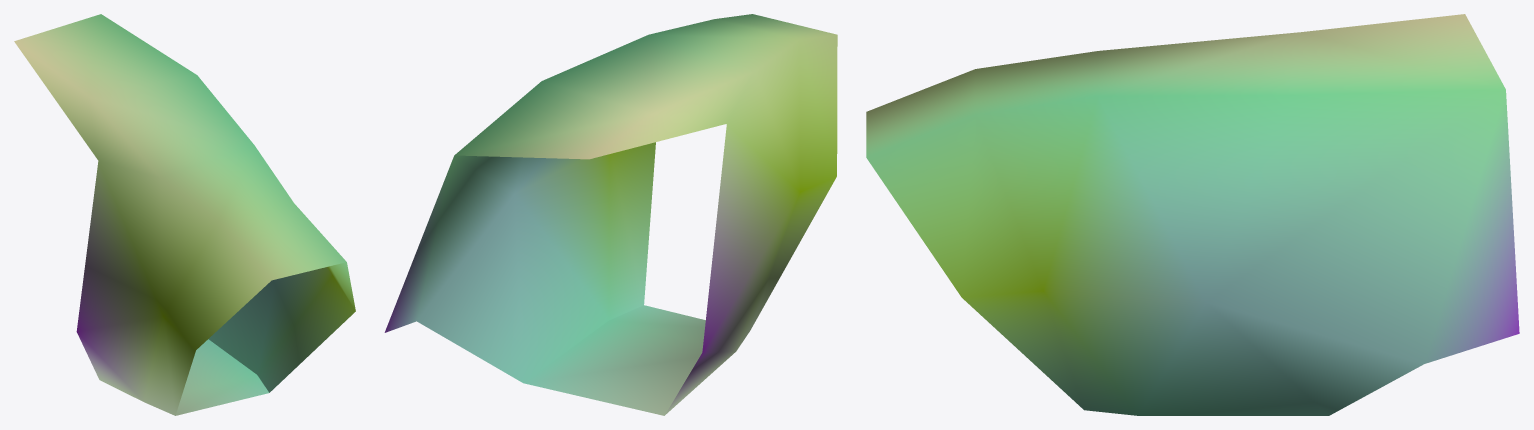
3 renders of one model, left to right at view 1: azimuth 30°, elevation 25°; view 2: azimuth 150°, elevation 25°; view 3: azimuth 270°, elevation 25°, orthographic. The views are drawn at different scales.
Visible parts, largest first — view 1: part; view 2: part; view 3: part.
Part boxes in pixels (<box>): part: <box>14,14,355,415</box>; part: <box>384,14,837,415</box>; part: <box>866,14,1519,415</box>.
Size of the model in its own units: 20 by 29 by 48.
